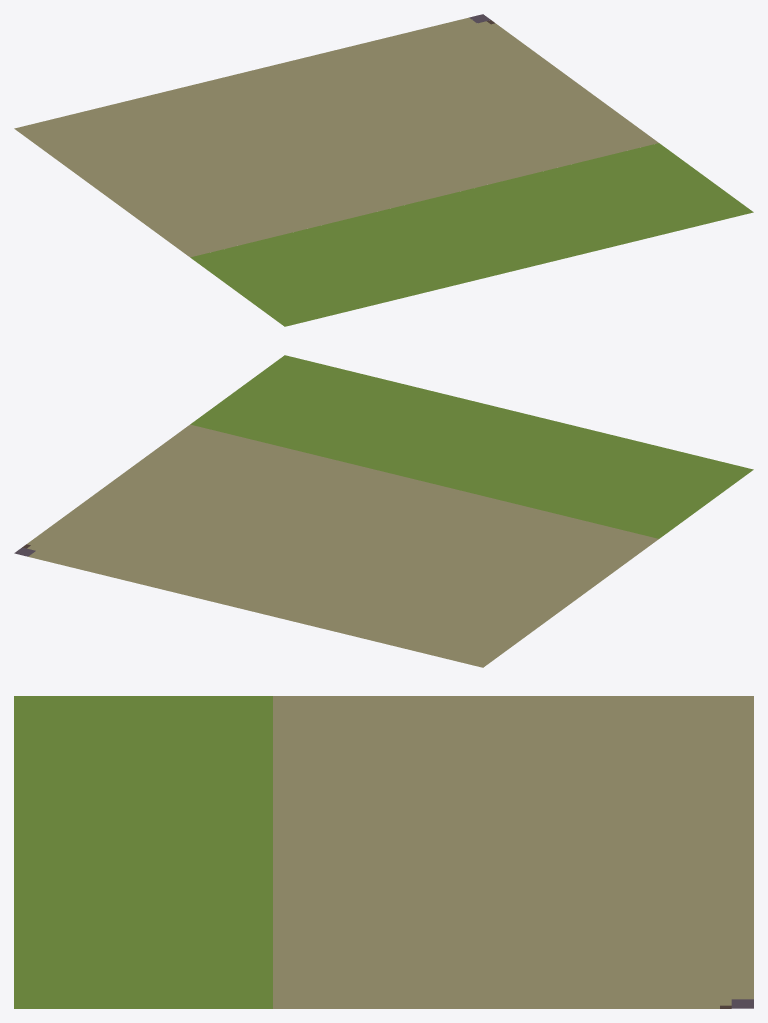
The model's file is cure-7-3.glb.
3 views of the same model, one above another, from view 1: azimuth 30°, elevation 25°; view 2: azimuth 150°, elevation 25°; view 3: azimuth 270°, elevation 25° (orthographic). The views are drawn at different scales.
Parts seen in each view (by area): view 1: cure-7-3; view 2: cure-7-3; view 3: cure-7-3.
Boxes of the visible parts, x1=… form: cure-7-3: x1=14, y1=14, x2=753, y2=326; cure-7-3: x1=14, y1=355, x2=753, y2=667; cure-7-3: x1=14, y1=696, x2=753, y2=1008.
Size of the model in its own units: 100 by 0.008 by 100.
